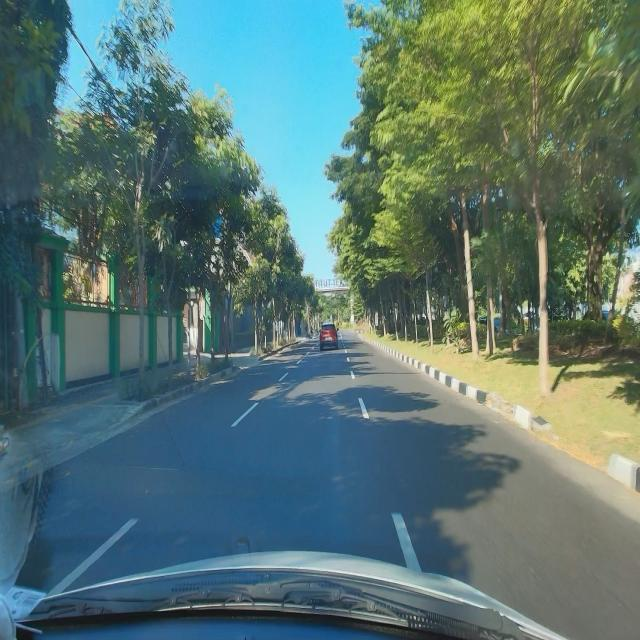car: (319, 322, 339, 352)
